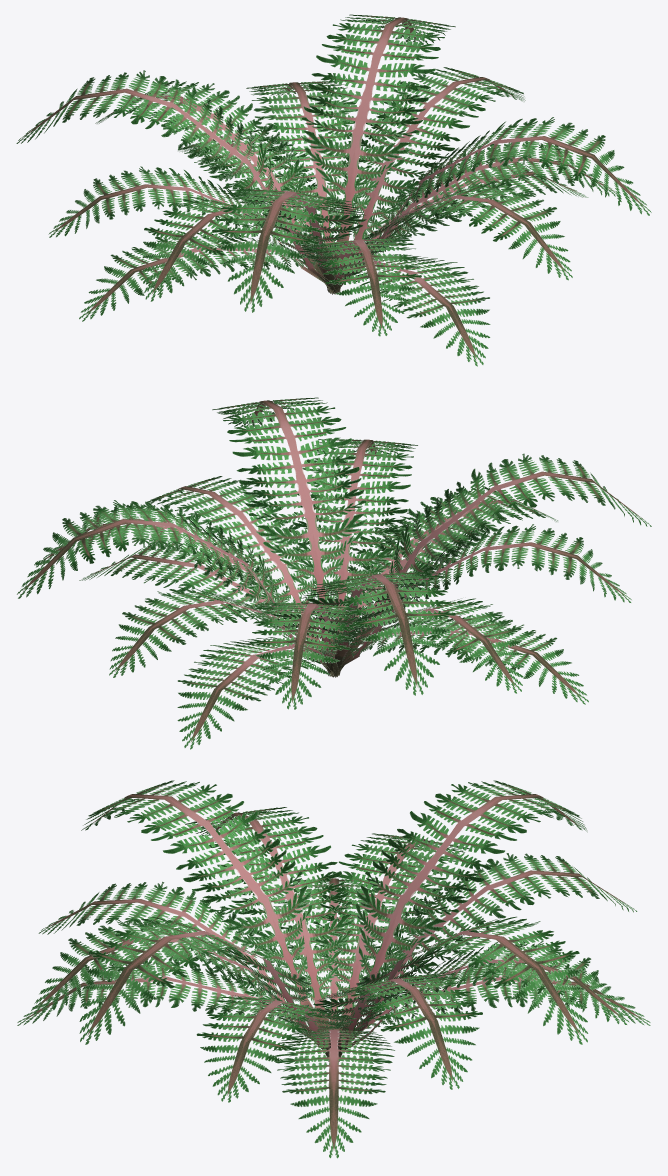
File: SmallFernVertexPaint.fbx
3 views of the same model, one above another, from view 1: azimuth 30°, elevation 25°; view 2: azimuth 150°, elevation 25°; view 3: azimuth 270°, elevation 25° (orthographic). The views are drawn at different scales.
Parts seen in each view (by area): view 1: SmallFernLeaf; view 2: SmallFernLeaf; view 3: SmallFernLeaf.
Boxes of the visible parts, x1,y1,x2,y2 form: SmallFernLeaf: [16, 14, 651, 366]; SmallFernLeaf: [17, 397, 651, 749]; SmallFernLeaf: [17, 780, 650, 1158].
Bounding box in the file's own units: 1.5 × 0.5 × 1.5.
Materials: 1 (1 with a texture image).
